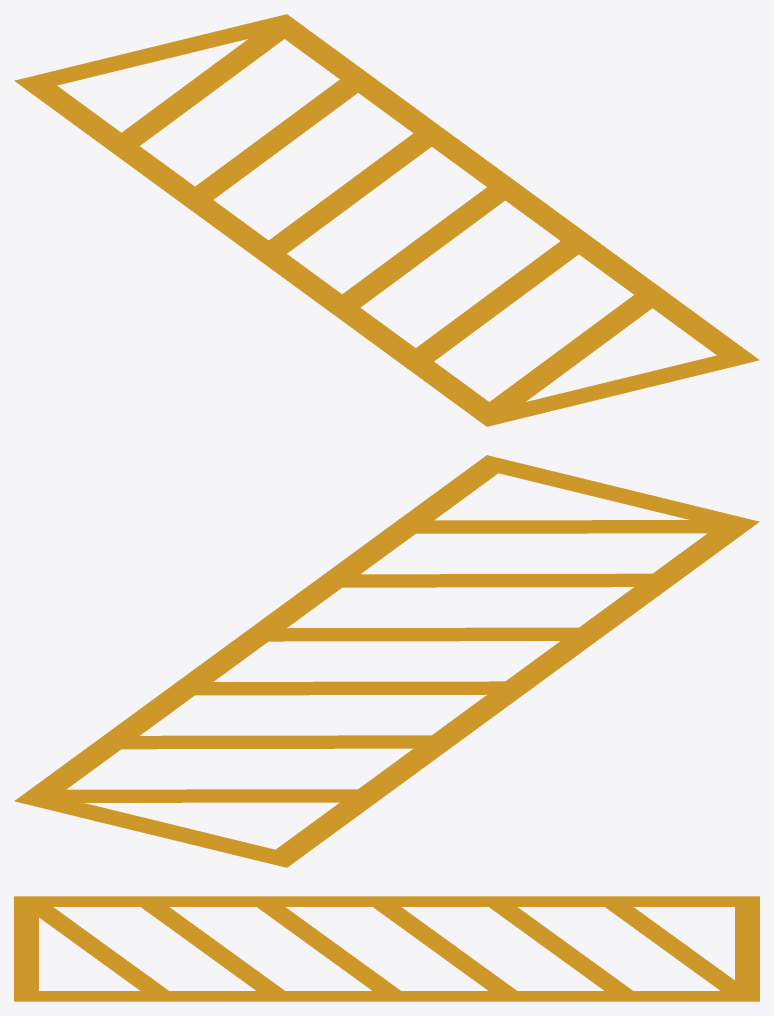
The model's file is ParkingGap.fbx.
3 views of the same model, one above another, from view 1: azimuth 30°, elevation 25°; view 2: azimuth 150°, elevation 25°; view 3: azimuth 270°, elevation 25° (orthographic). The views are drawn at different scales.
Parts seen in each view (by area): view 1: ParkingGap; view 2: ParkingGap; view 3: ParkingGap.
Part boxes in pixels (x1,y1,x2,y2): ParkingGap: (14, 14, 759, 426); ParkingGap: (14, 455, 759, 867); ParkingGap: (14, 896, 759, 1001).
Bounding box in the file's own units: 100 × 0 × 300.
